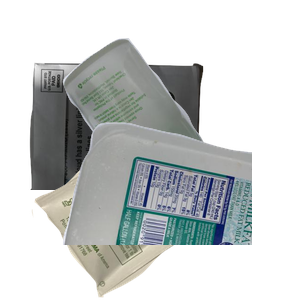glass: (60, 36, 300, 216)
paper: (27, 60, 223, 240)
plastic: (60, 120, 300, 300)
trash: (29, 124, 238, 300)
